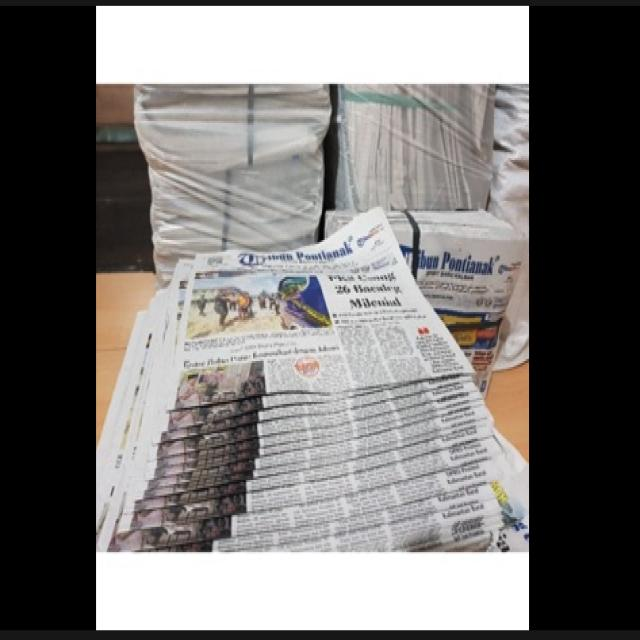Koran: (96, 207, 528, 552), (323, 203, 525, 400)
